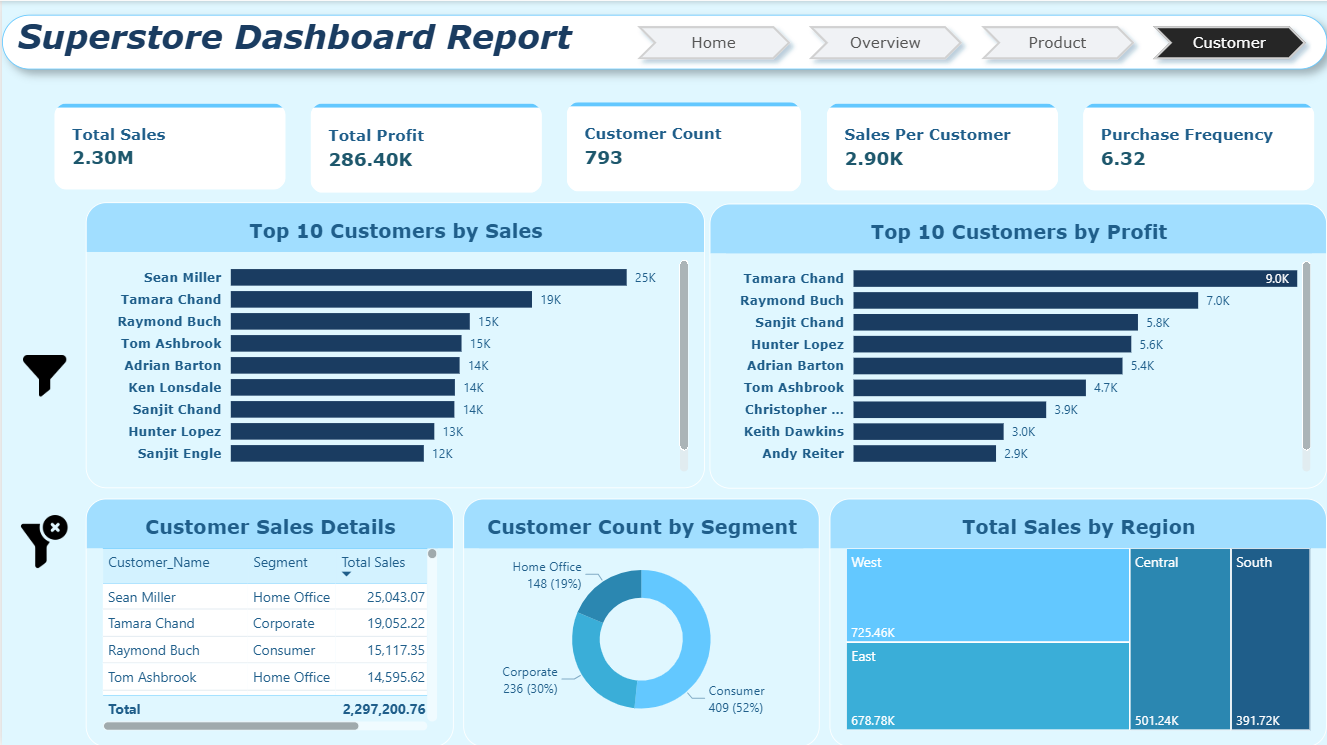

The page's visual inventory and layout, read from the dashboard file:
{"tool":"powerbi","page":{"name":"Customer","canvas":[1280,720],"ordinal":3},"visuals":[{"type":"textbox","box":[0,13.3,1278.8,53.1],"z":0},{"type":"pageNavigator","box":[588.8,0,690,80],"z":1000},{"type":"cardVisual","fields":{"Data":["Measure.Total Sales"]},"box":[38.6,86.9,247.3,107.4],"z":2000},{"type":"cardVisual","fields":{"Data":["Measure.Total Profit"]},"box":[285.9,86.9,247.3,111],"z":3000},{"type":"cardVisual","fields":{"Data":["Measure.Customer Count"]},"box":[533.2,85.7,250.9,111],"z":4000},{"type":"cardVisual","fields":{"Data":["Measure.Sales Per Customer"]},"box":[784.2,86.9,247.3,108.6],"z":5000},{"type":"clusteredBarChart","title":"Top 10 Customers by Sales","fields":{"Category":["DIM_Customers.Customer_Name"],"Y":["Measure.Total Sales"]},"box":[81.2,193.8,597.5,276.2],"z":6000},{"type":"clusteredBarChart","title":"Top 10 Customers by Profit","fields":{"Category":["DIM_Customers.Customer_Name"],"Y":["Measure.Total Profit"]},"box":[682.5,195,596.2,275],"z":7000},{"type":"donutChart","fields":{"Y":["Measure.Customer Count"],"Category":["DIM_Customers.Segment"]},"box":[445,480,343.8,240],"z":8000},{"type":"treemap","fields":{"Group":["DIM_Location.Region"],"Values":["Measure.Total Sales"]},"box":[798.8,480,480,240],"z":9000},{"type":"tableEx","title":"Customer Sales Details","fields":{"Values":["DIM_Customers.Customer_Name","DIM_Customers.Segment","Measure.Total Sales","Measure.Total Profit"]},"box":[81.2,480,355,240],"z":10000},{"type":"image","box":[1.2,313.8,80,93.8],"z":16000},{"type":"image","box":[0,470,81.2,102.5],"z":17000},{"type":"actionButton","box":[0,326.2,81.2,68.8],"z":18000},{"type":"actionButton","title":"Clear Filter","box":[0,480,81.2,82.5],"z":20000},{"type":"cardVisual","fields":{"Data":["Measure.Purchase Frequency"]},"box":[1031.5,86.9,247.3,108.6],"z":20001}]}

Visuals, with their boxes in screenshot pixels (x1, y1, x2, y2), scaled from the page's 1280x720 canvas onto the 1327x745 screenshot:
textbox: crop(0, 14, 1326, 69)
pageNavigator: crop(610, 0, 1326, 83)
cardVisual - Measure.Total Sales: crop(40, 90, 296, 201)
cardVisual - Measure.Total Profit: crop(296, 90, 553, 205)
cardVisual - Measure.Customer Count: crop(553, 89, 813, 204)
cardVisual - Measure.Sales Per Customer: crop(813, 90, 1069, 202)
"Top 10 Customers by Sales" clusteredBarChart: crop(84, 201, 704, 486)
"Top 10 Customers by Profit" clusteredBarChart: crop(708, 202, 1326, 486)
donutChart - Measure.Customer Count x DIM_Customers.Segment: crop(461, 497, 818, 744)
treemap - DIM_Location.Region x Measure.Total Sales: crop(828, 497, 1326, 744)
"Customer Sales Details" tableEx: crop(84, 497, 452, 744)
image: crop(1, 325, 84, 422)
image: crop(0, 486, 84, 592)
actionButton: crop(0, 338, 84, 409)
"Clear Filter" actionButton: crop(0, 497, 84, 582)
cardVisual - Measure.Purchase Frequency: crop(1069, 90, 1326, 202)
